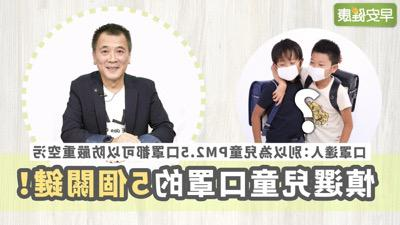with_mask: (276, 57, 300, 82), (307, 58, 330, 82)
without_mask: (95, 43, 129, 80)
